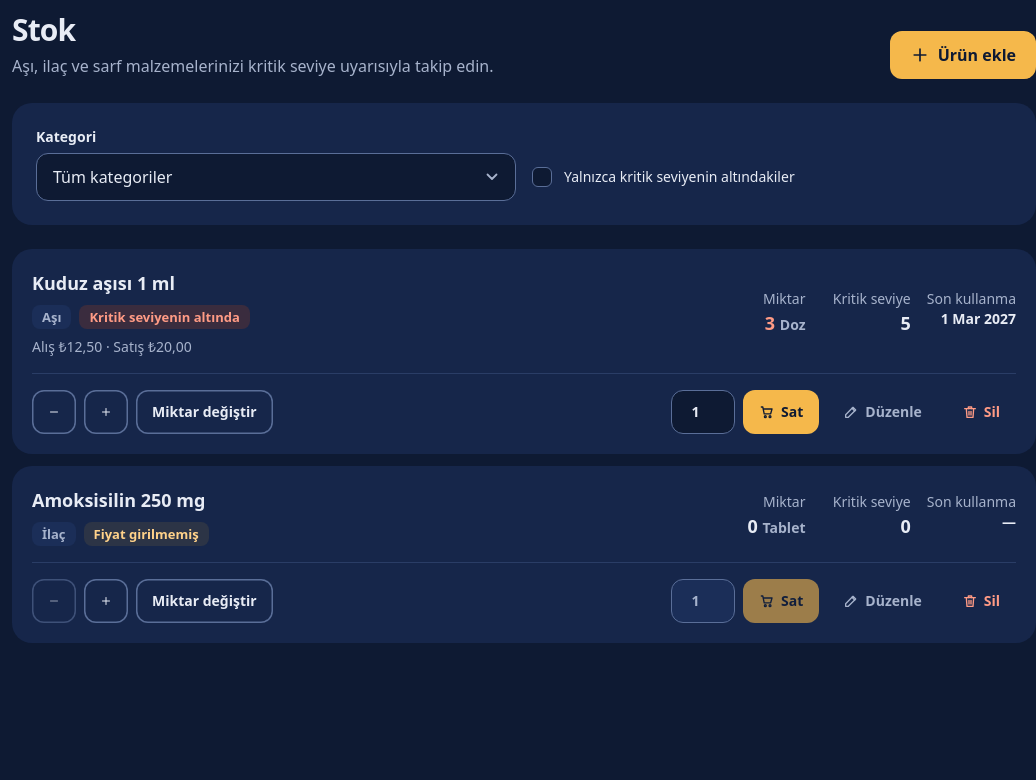
it: StockPage — hızlı miktar › sunucu sınır hatasını satırda gösterir
The image size is (1036, 780).
Click the button named "Kuduz aşısı 1 ml miktarını 1 azalt" at (54, 412), box left=32, top=390, right=76, bottom=434
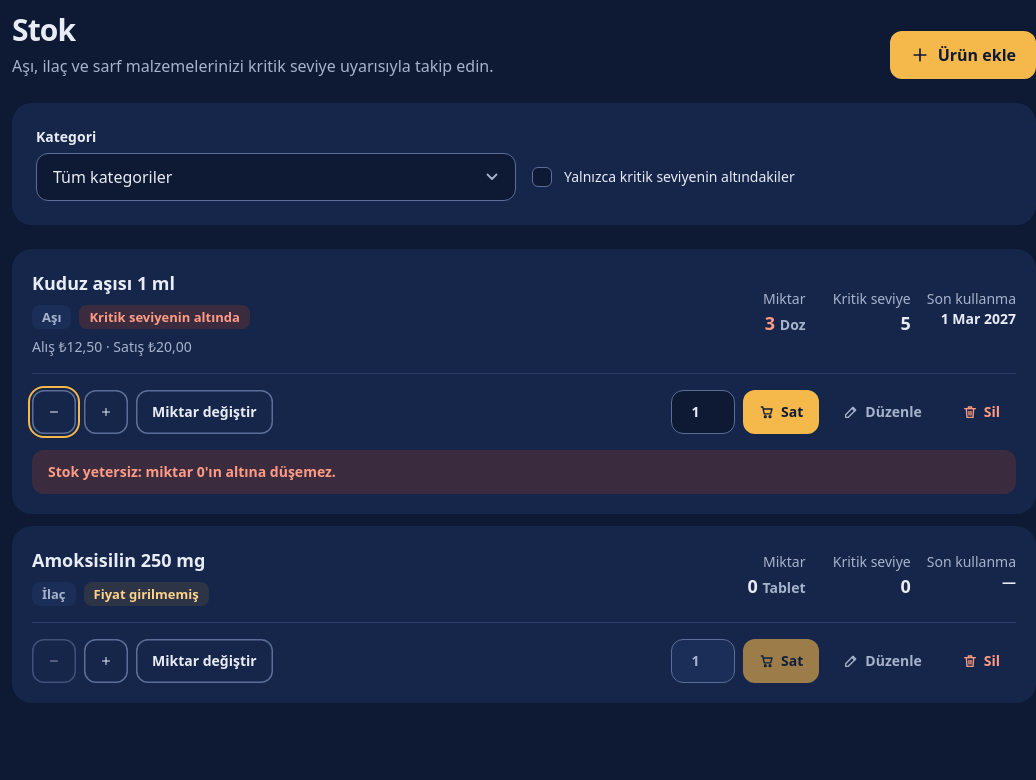
Expected: the message reads "Stok yetersiz: miktar 0'ın altına düşemez.", left=48, top=462, right=336, bottom=481
